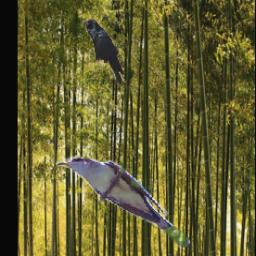Crow: (83, 19, 124, 85)
Cuckoo: (57, 155, 191, 247)
